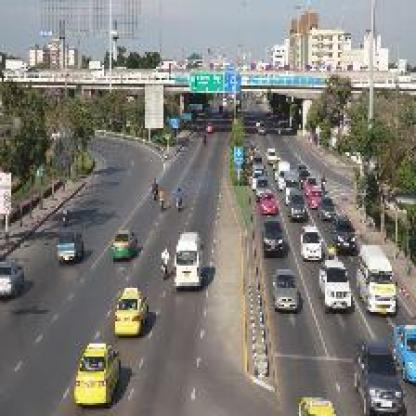other: (59, 341, 126, 405), (112, 288, 154, 335), (292, 390, 339, 412)
